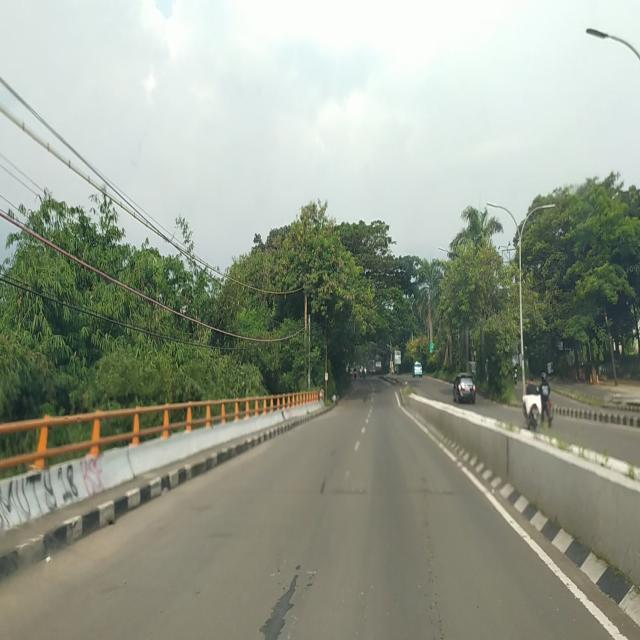Sewer Cover: (400, 486, 463, 495), (321, 488, 371, 498)
